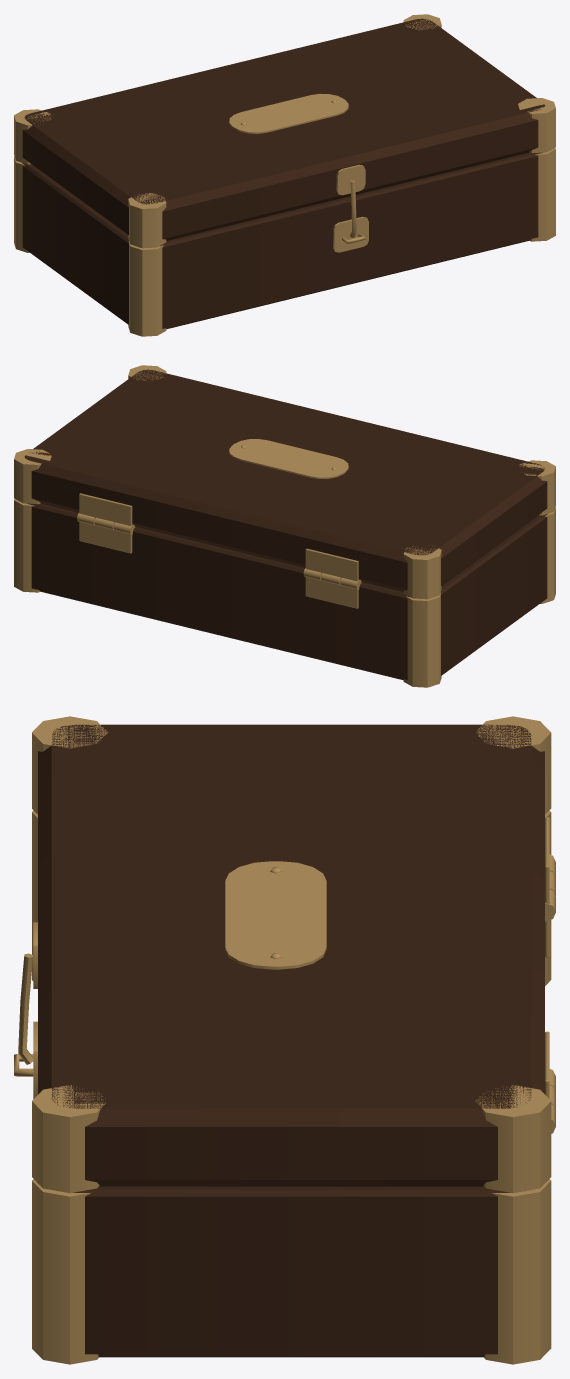
Rendered from lens_case.glb.
3 views of the same model, one above another, from view 1: azimuth 30°, elevation 25°; view 2: azimuth 150°, elevation 25°; view 3: azimuth 270°, elevation 25° (orthographic). The views are drawn at different scales.
Parts seen in each view (by area): view 1: IA_case_lid, case_base; view 2: IA_case_lid, case_base; view 3: IA_case_lid, case_base.
Boxes of the visible parts, <box> form: IA_case_lid: <box>14,14,555,248</box>; case_base: <box>14,147,555,336</box>; IA_case_lid: <box>14,365,555,599</box>; case_base: <box>14,498,555,687</box>; IA_case_lid: <box>18,716,555,1192</box>; case_base: <box>14,810,555,1364</box>.
Bounding box in the file's own units: 0.2432 × 0.0717 × 0.139.
